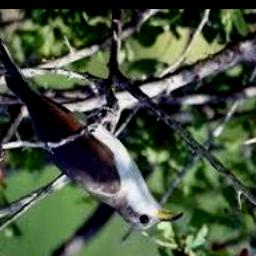Cuckoo: (0, 10, 184, 230)
